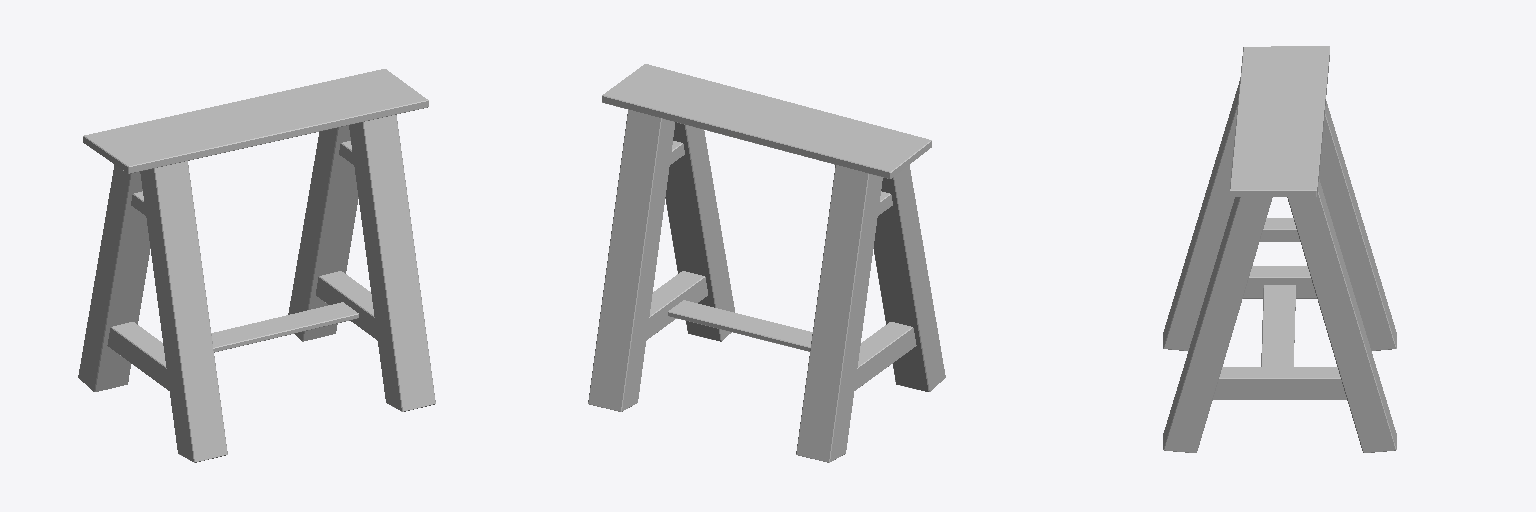
The model's file is stool.obj.
The picture shows the model from 3 angles: view 1: azimuth 30°, elevation 25°; view 2: azimuth 150°, elevation 25°; view 3: azimuth 270°, elevation 25°; orthographic projection.
Parts seen in each view (by area): view 1: Cube.329; view 2: Cube.329; view 3: Cube.329.
Boxes of the visible parts, x1,y1,x2,y2 form: Cube.329: [78, 69, 435, 462]; Cube.329: [588, 64, 945, 462]; Cube.329: [1163, 46, 1396, 452].
Bounding box in the file's own units: 0.4575 × 0.4082 × 0.3122.